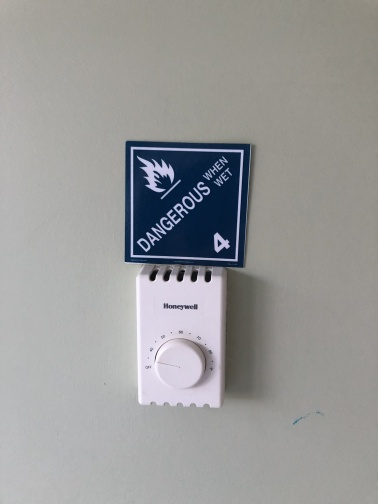DangerousWhenWet: (126, 140, 245, 267)
